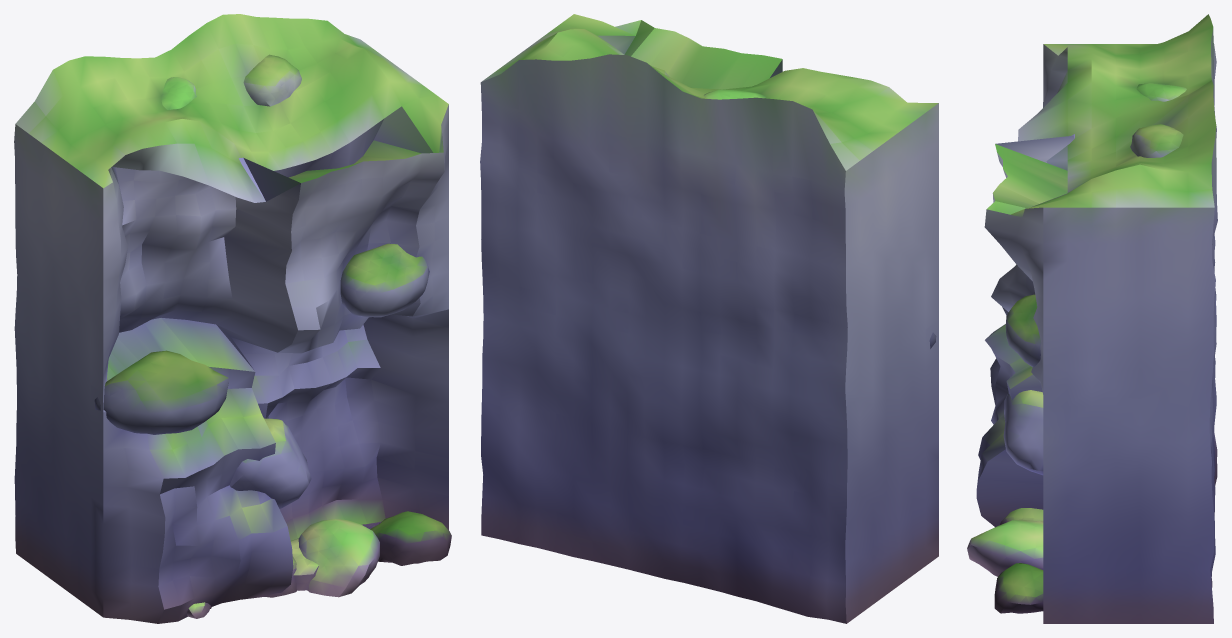
File: verdant_cliff_wall_b.glb
3 views of the same model, side by side, from view 1: azimuth 30°, elevation 25°; view 2: azimuth 150°, elevation 25°; view 3: azimuth 270°, elevation 25° (orthographic). The views are drawn at different scales.
Visible parts, largest first — view 1: verdant_cliff_wall_b; view 2: verdant_cliff_wall_b; view 3: verdant_cliff_wall_b.
Part boxes in pixels (x1,y1,x2,y2): verdant_cliff_wall_b: (14, 14, 451, 623); verdant_cliff_wall_b: (480, 14, 938, 623); verdant_cliff_wall_b: (967, 14, 1217, 623).
Bounding box in the file's own units: 16.07 × 21.76 × 10.37.
